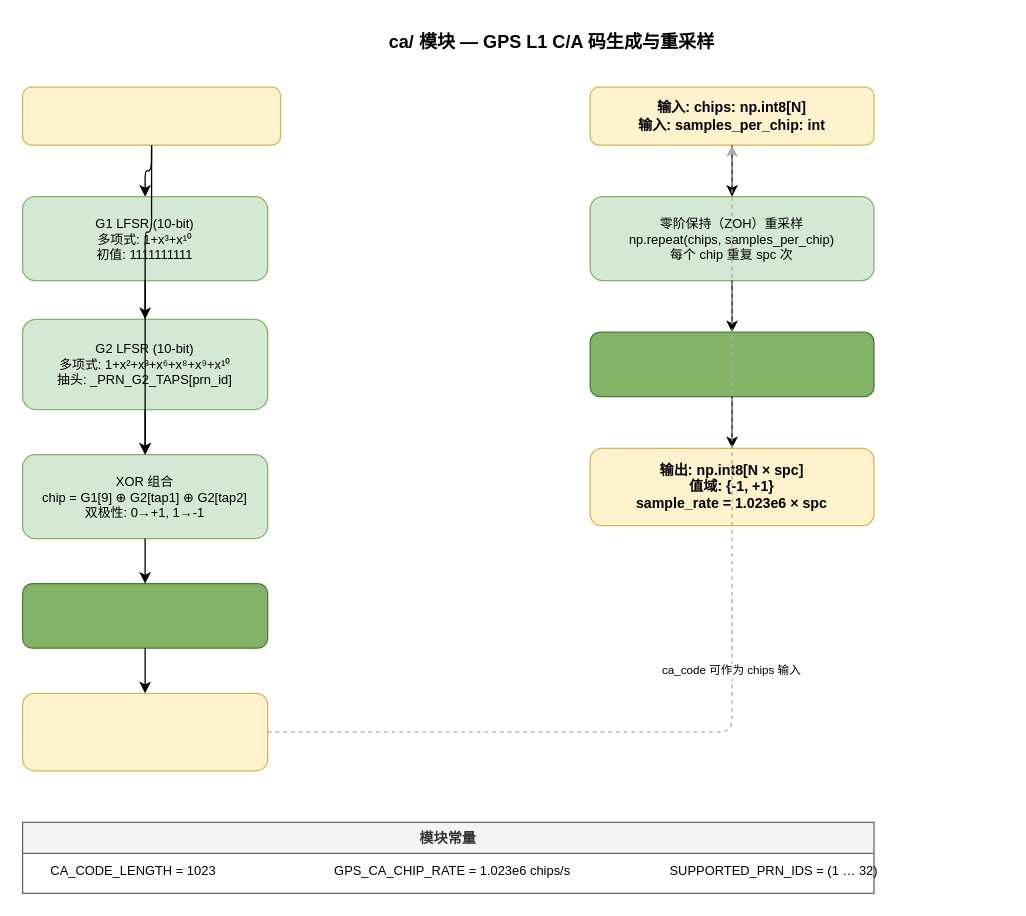
This 1026x916 diagram has some shape labels left out. Here are the shapes that lost their labels. From the top down, the centre of each, then its label:
point (151, 115): 输入: prn_id: int 范围 1~32
point (731, 364): repeat_chips(chips, samples_per_chip) resampler.py
point (144, 615): generate_ca_code(prn_id) prn_generator.py
point (144, 731): 输出: np.int8[1023] 值域: {-1, +1} 1 ms C/A 码周期
